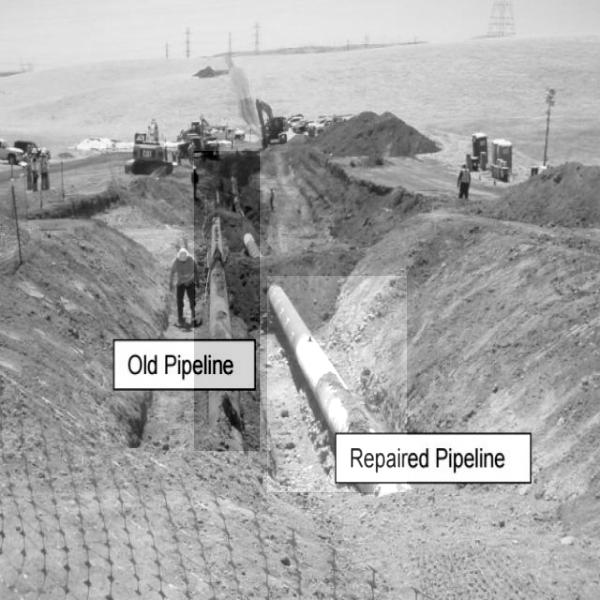no leak: (267, 276, 407, 492), (194, 151, 260, 451)
